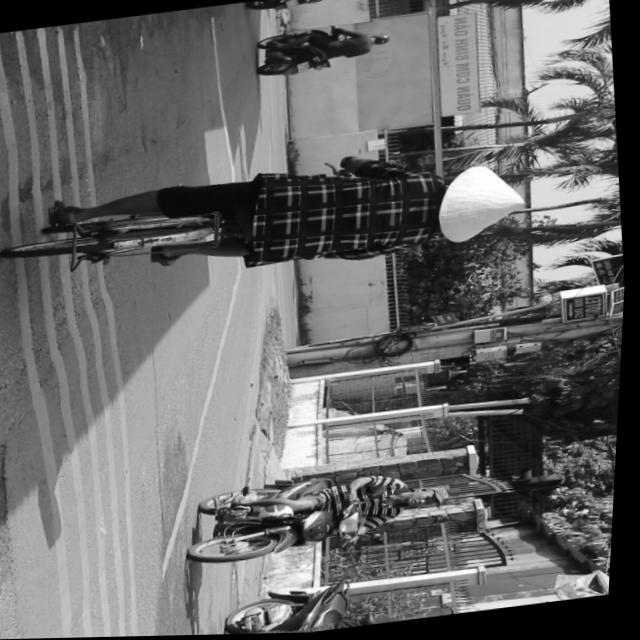licenseplate: (187, 457, 464, 570)
motorcyclist: (409, 486, 456, 511)
